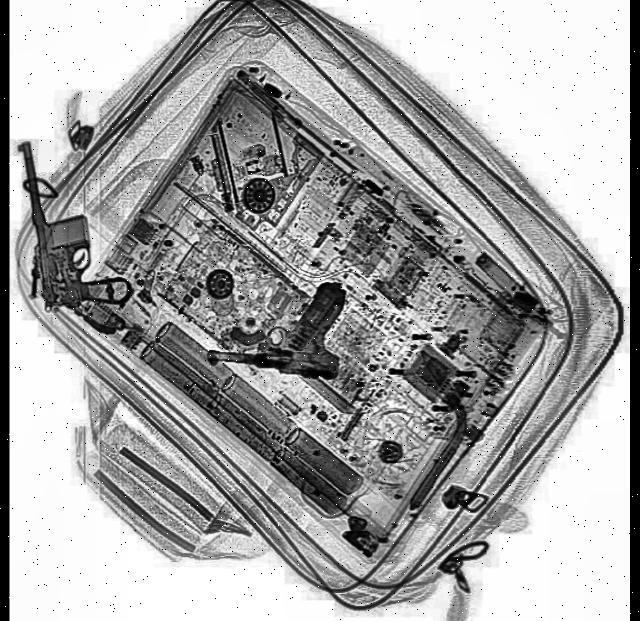Gun: (19, 124, 134, 318), (208, 268, 349, 377)
